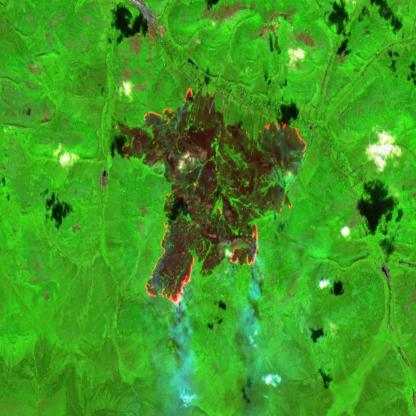fire: (114, 84, 308, 308)
